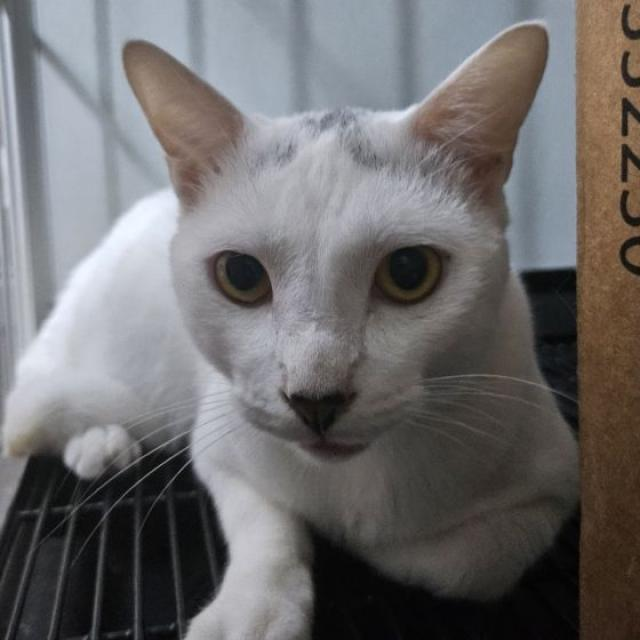domestic_short_hair_cat: (80, 16, 581, 495)
